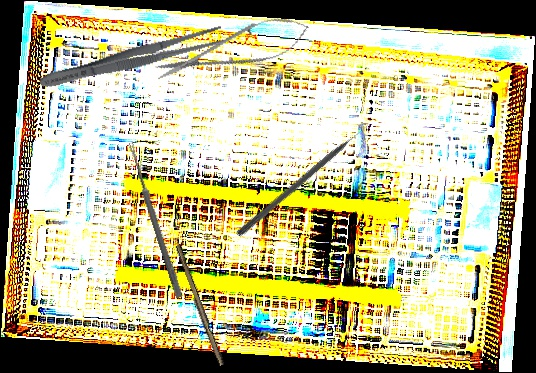Dressing Forceps: (37, 22, 226, 95)
Micro Scissor: (150, 7, 315, 93)
Pusher: (235, 122, 372, 239)
Scalpel Handle: (171, 244, 227, 367)
Surgical Spoon: (126, 141, 184, 299)
